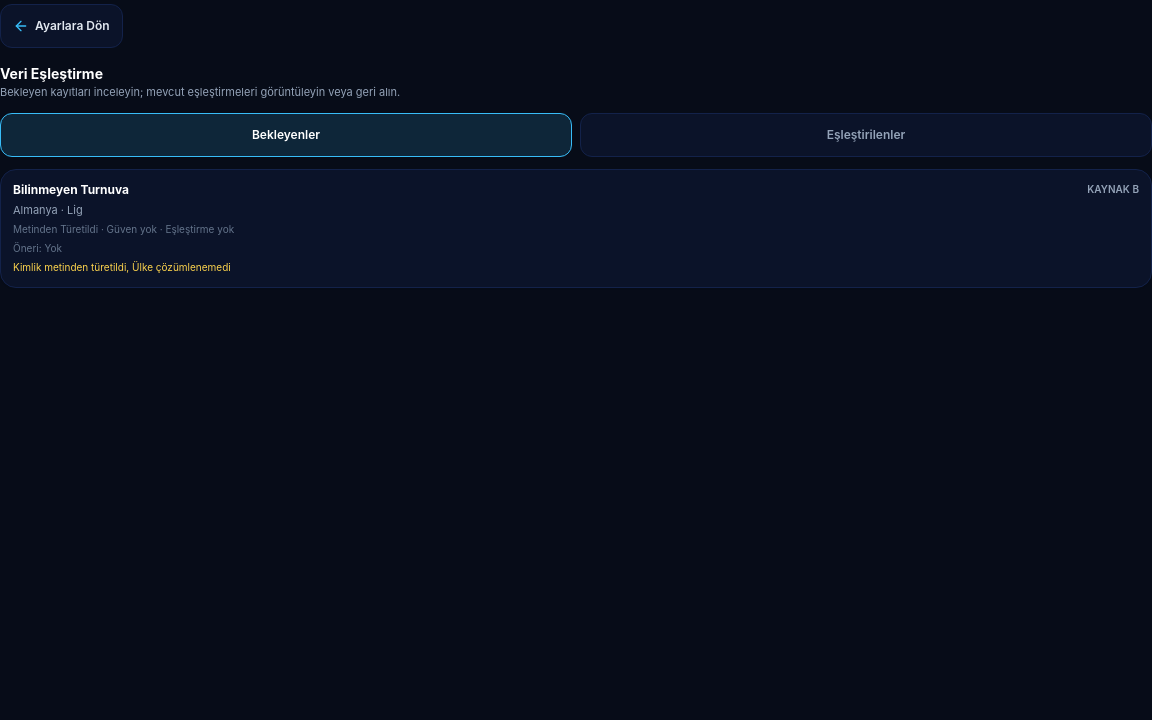
Test: MappingAdminPage › links an unmatched competition to an existing league after selecting it and confirming
The width and height of the screenshot is (1152, 720).
Click the button with test id "mapping-item-source_b-comp-2" at (71, 189), box [0, 168, 1151, 288]
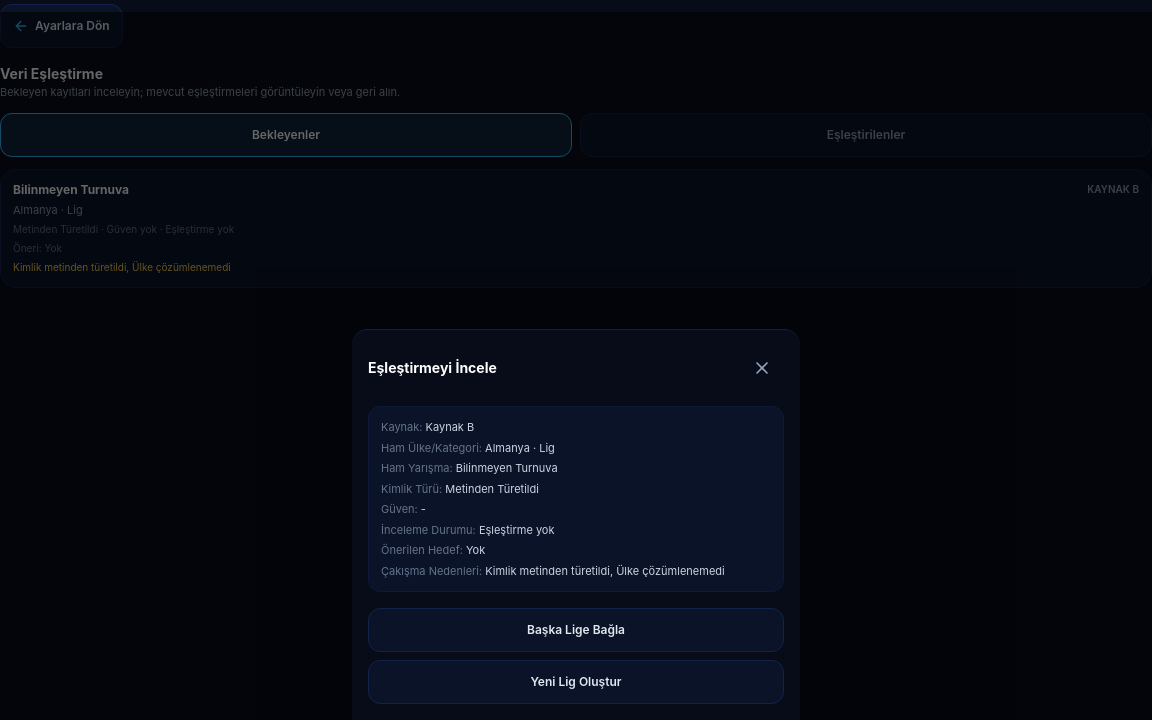
Click the button "Başka Lige Bağla" at (576, 630), box [368, 608, 784, 652]
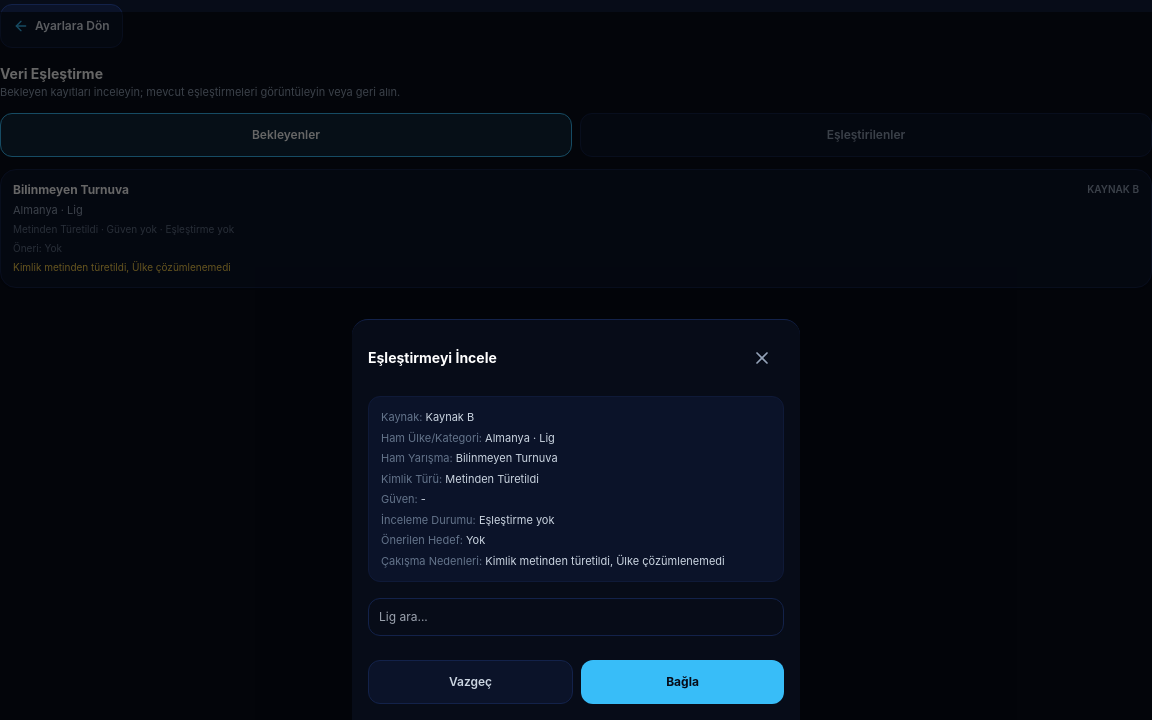
// Validation: cannot confirm without a selection.
Click the button "Bağla" at (682, 682), box [581, 660, 784, 704]
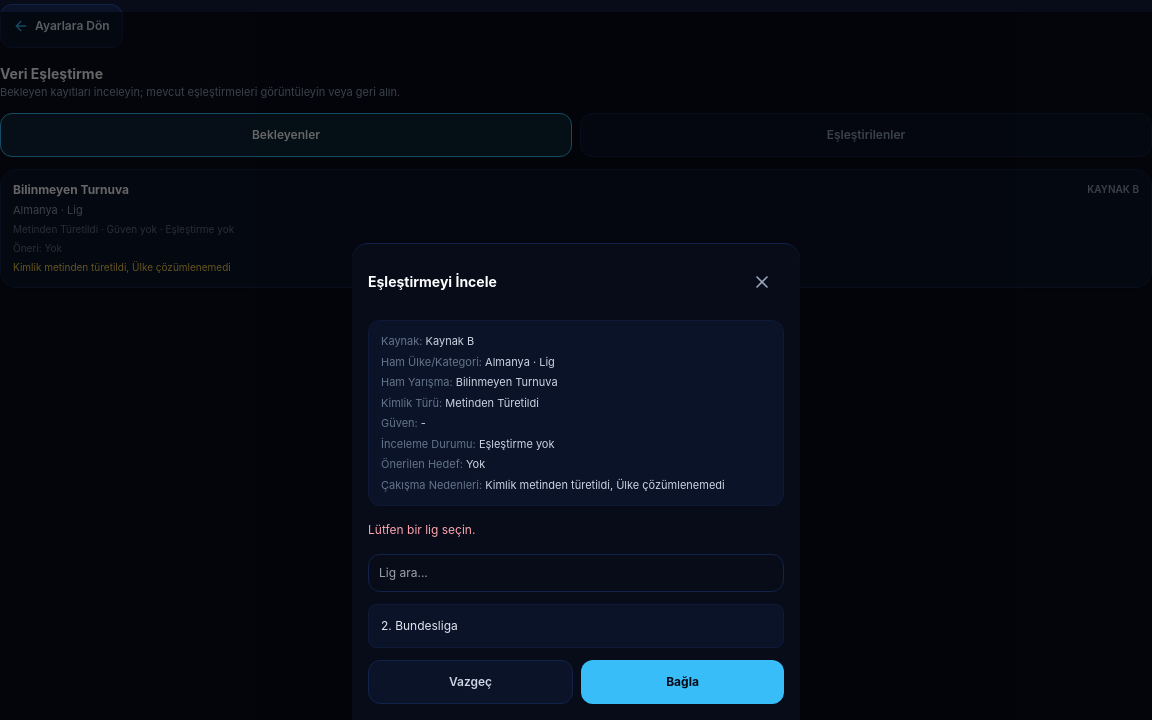
Check: the text "Lütfen bir lig seçin." is shown, box [368, 522, 475, 537]
Click the button "2. Bundesliga" at (419, 626), box [368, 604, 784, 648]
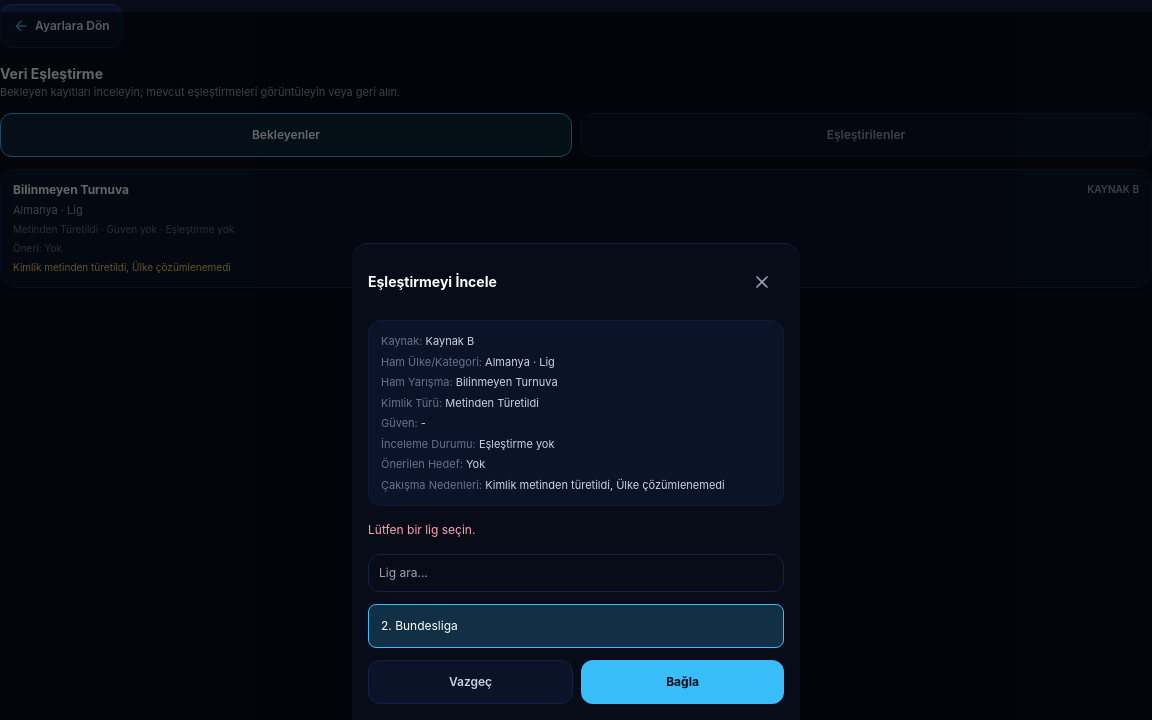
Click the button "Bağla" at (682, 682), box [581, 660, 784, 704]
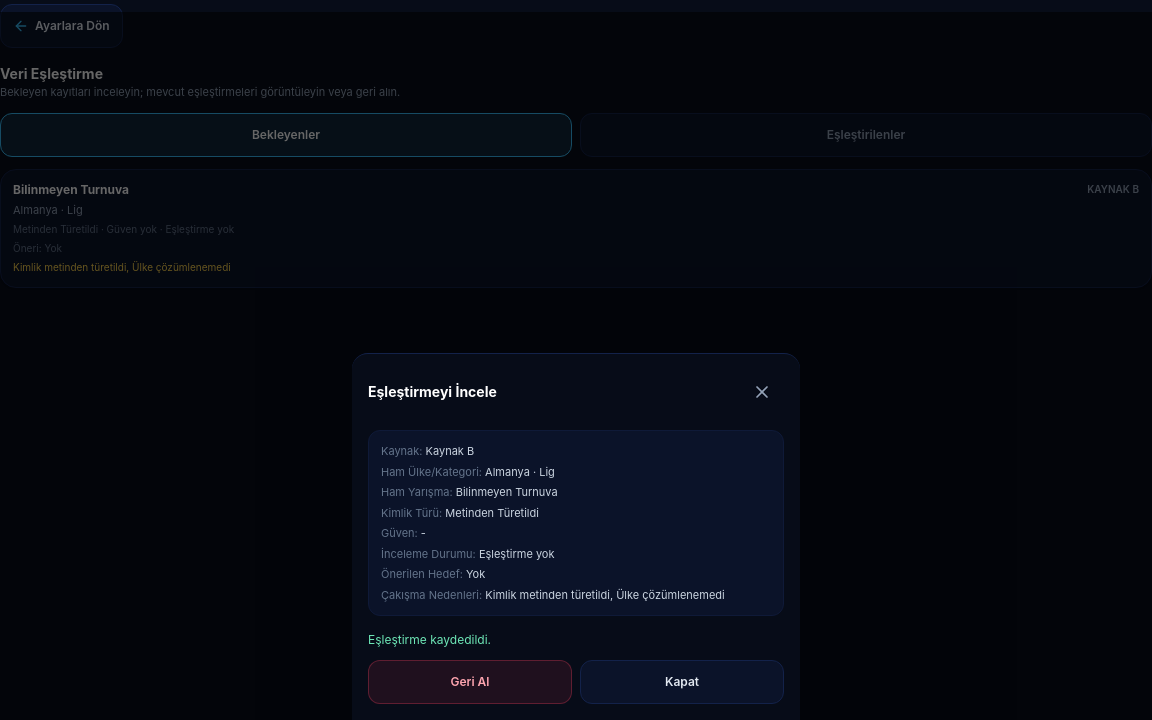
Check: the button "Geri Al" is shown, box [368, 660, 572, 704]
